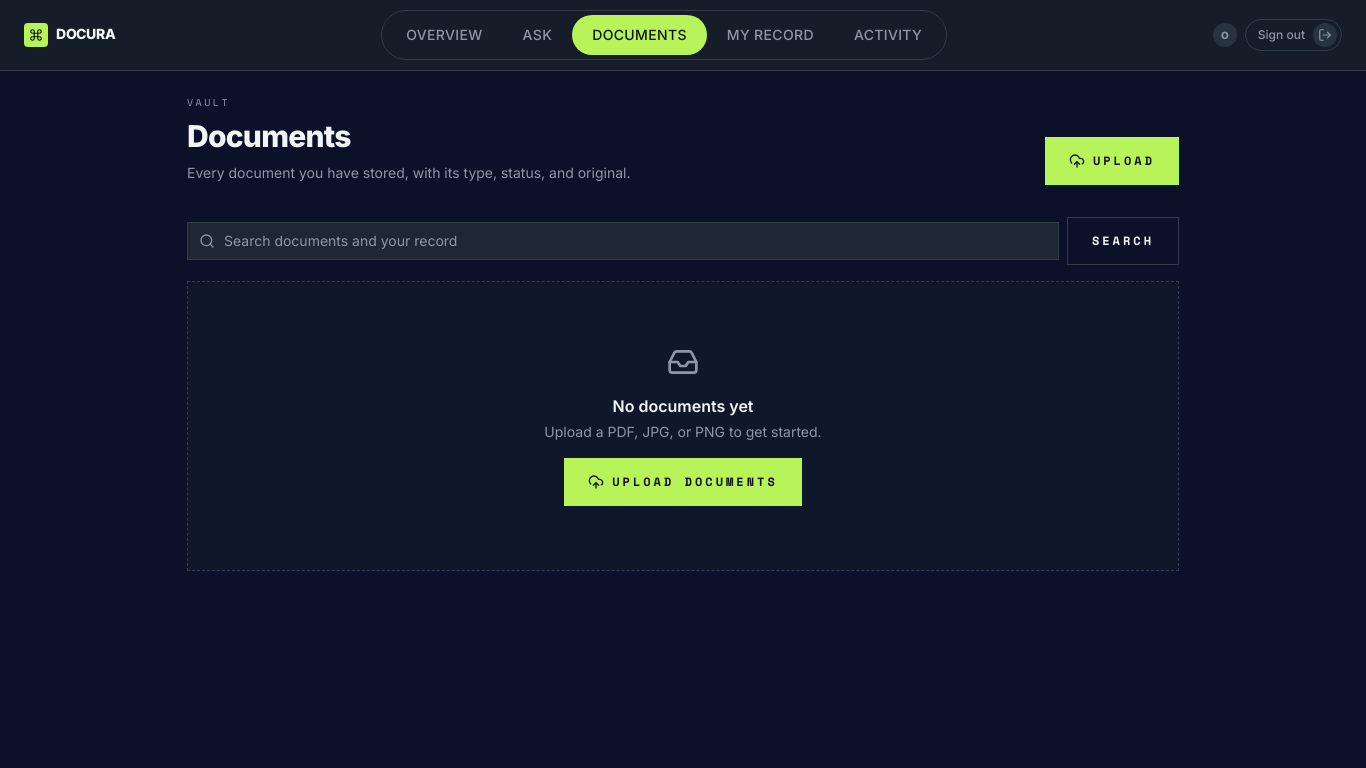
Documents vault (§7) › shows an empty search state when nothing matches
This screenshot has width=1366, height=768.
Type "zzz" into the search field at (623, 241), box top-left (187, 222), bottom-right (1059, 260)
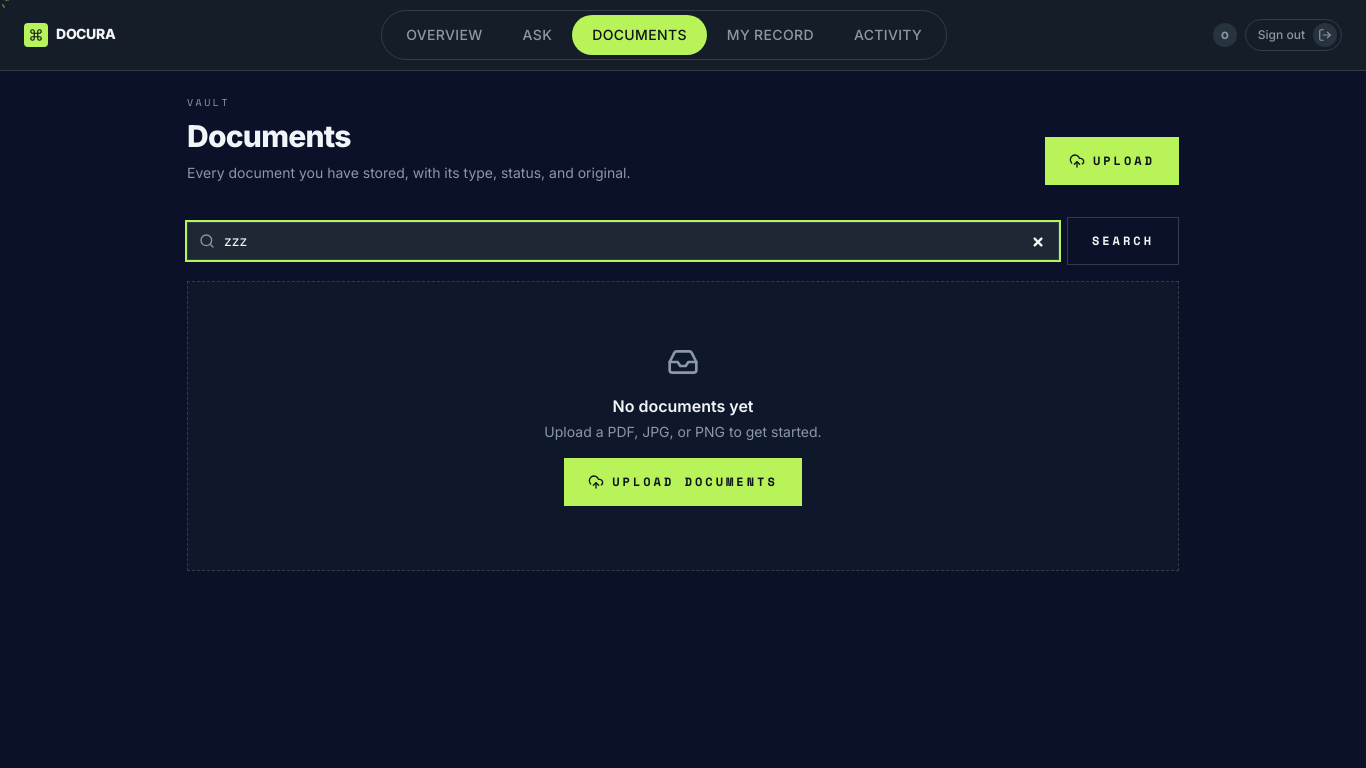
Press Enter
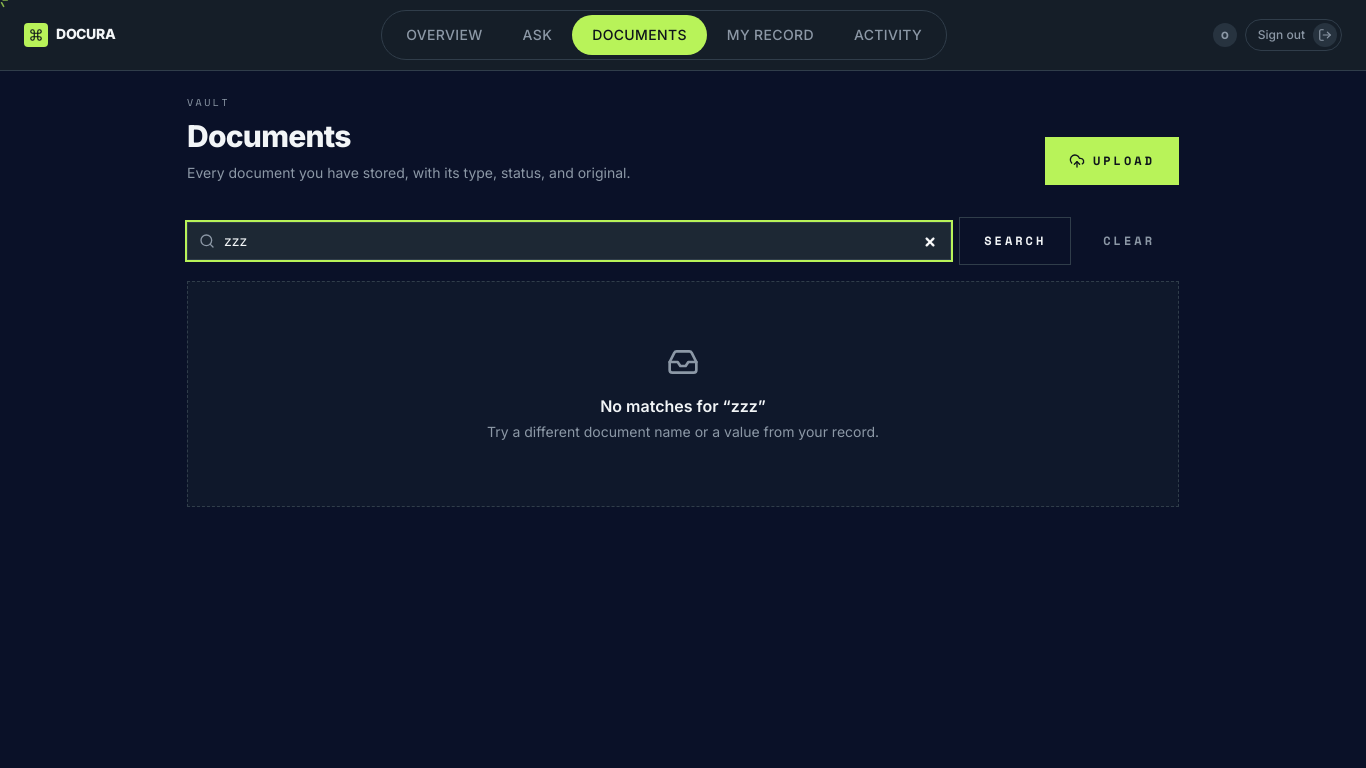
Now the text "No matches for “zzz”" is shown, box top-left (600, 396), bottom-right (766, 416)
